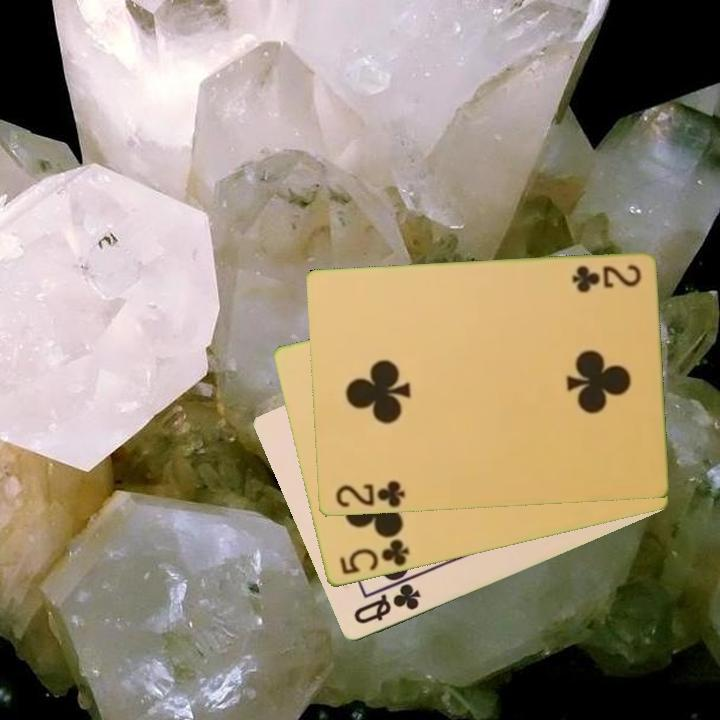2c: (332, 478, 407, 511), (568, 261, 644, 293)
5c: (335, 536, 412, 578)
Qc: (349, 580, 424, 628)
